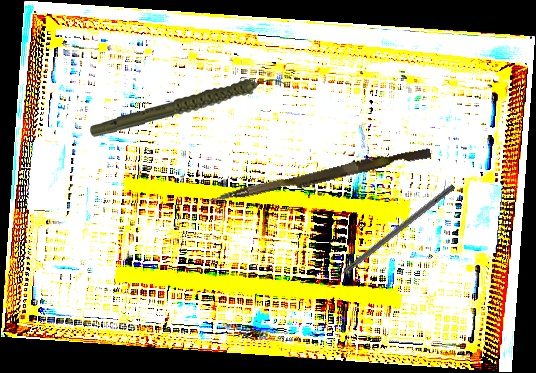Handpiece: (88, 76, 288, 139)
Hook Surgical: (321, 183, 456, 291)
Pusher: (207, 141, 432, 213)
